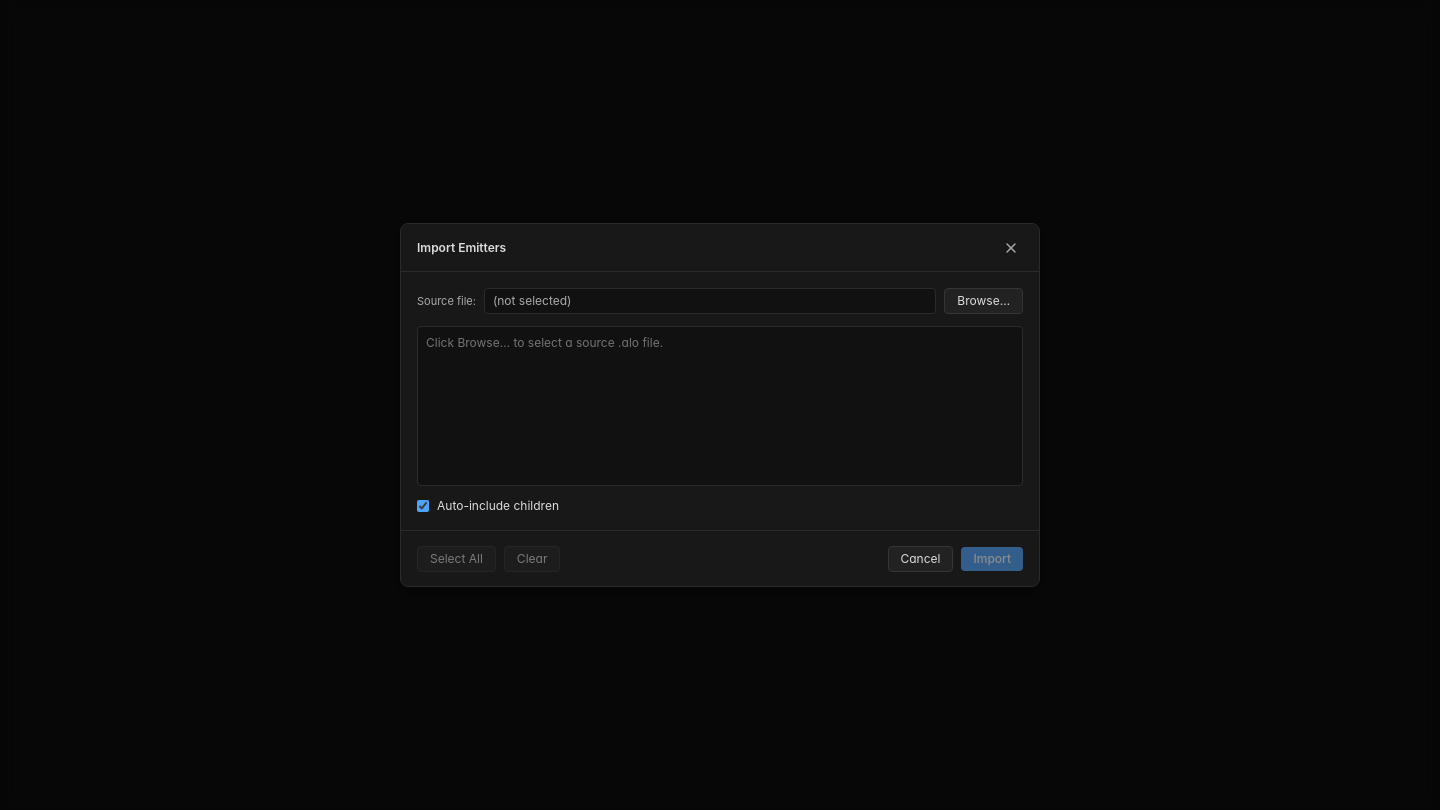
it: ImportEmittersDialog › Clear button is disabled when nothing is selected
The width and height of the screenshot is (1440, 810).
Click the button "Browse…" at (984, 301), box [944, 288, 1023, 314]
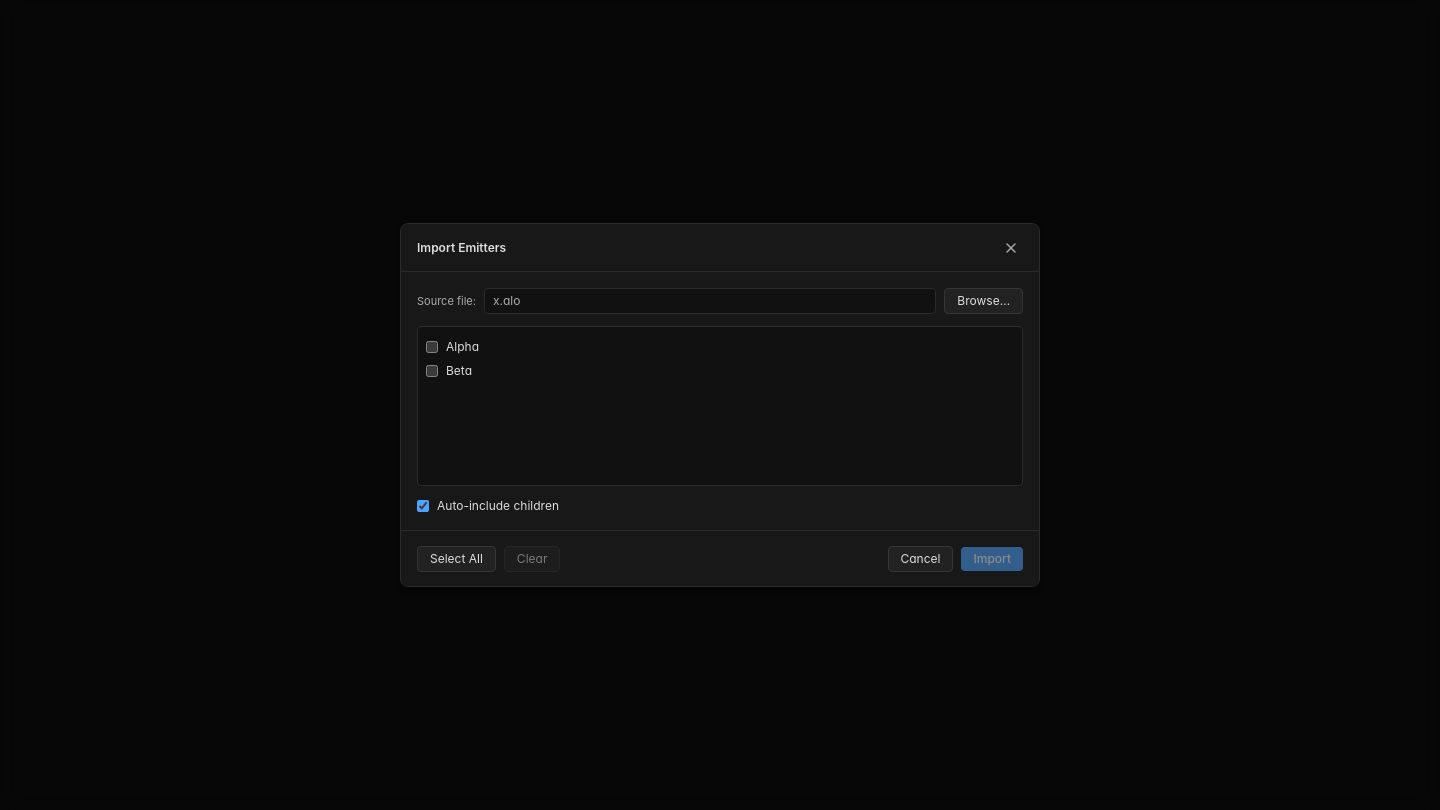
Expected: the button with aria-label "Clear selection" is disabled, [504, 546, 560, 572]
Result: the checkbox named "Select Alpha" is shown
# Tick one → Clear enables.
Click the checkbox named "Select Alpha" at (432, 347), box [426, 341, 438, 353]
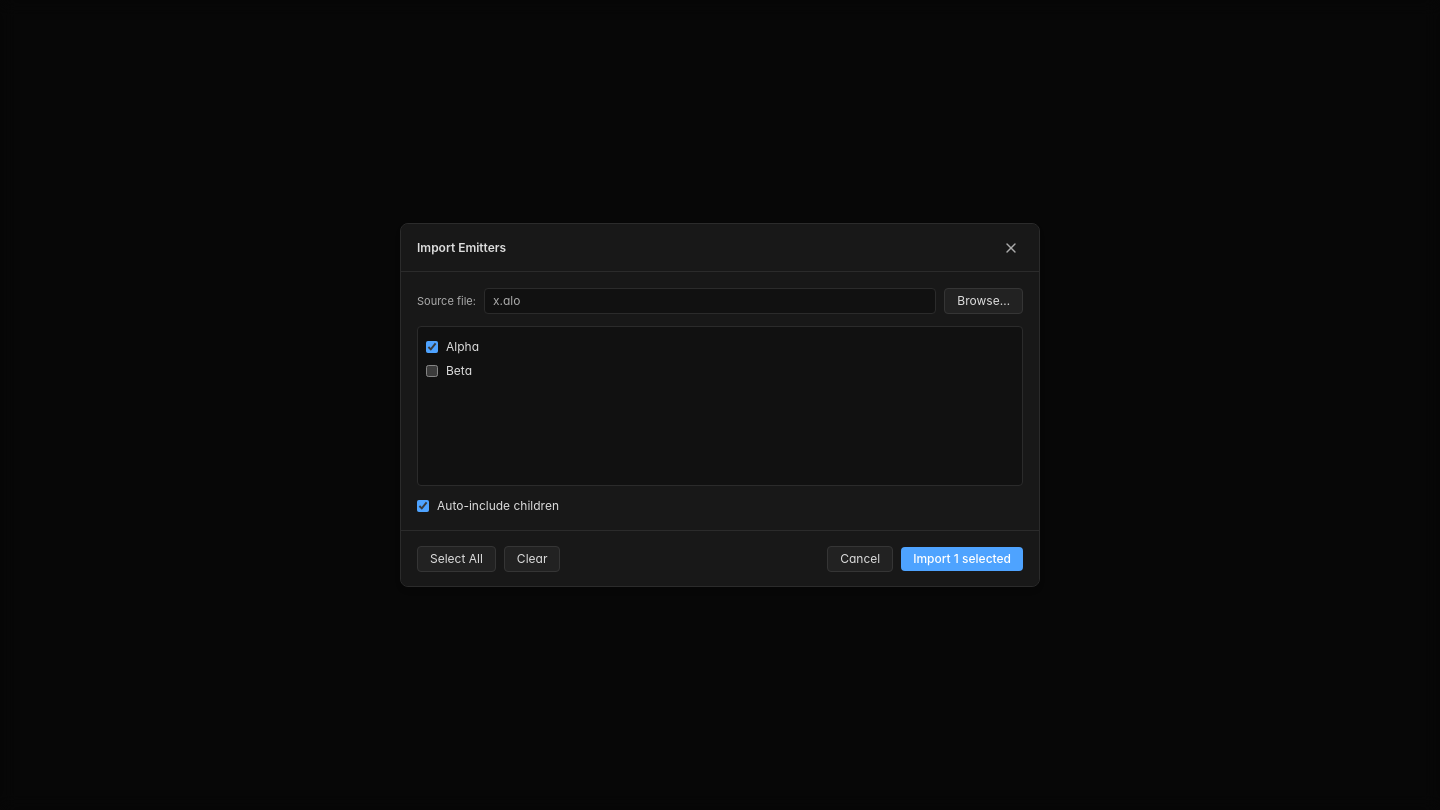
Result: the button with aria-label "Clear selection" is enabled at [504, 546, 560, 572]
